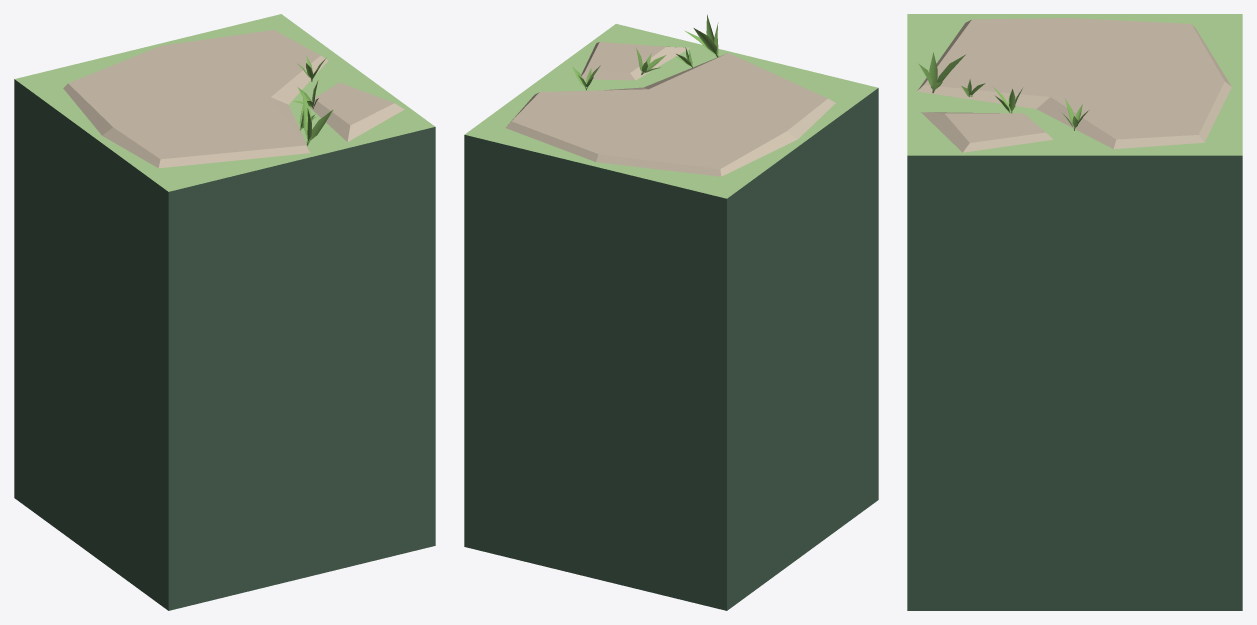
Rendered from Path03.fbx.
The picture shows the model from 3 angles, left to right: view 1: azimuth 30°, elevation 25°; view 2: azimuth 150°, elevation 25°; view 3: azimuth 270°, elevation 25°; orthographic projection. The views are drawn at different scales.
Visible parts, largest first — view 1: Cube.014; view 2: Cube.014; view 3: Cube.014.
Boxes of the visible parts, box(x1,y1,x2,y2) form: Cube.014: box(14, 14, 435, 610); Cube.014: box(464, 14, 878, 610); Cube.014: box(907, 14, 1242, 610).
Size of the model in its own units: 100 by 165 by 100.
